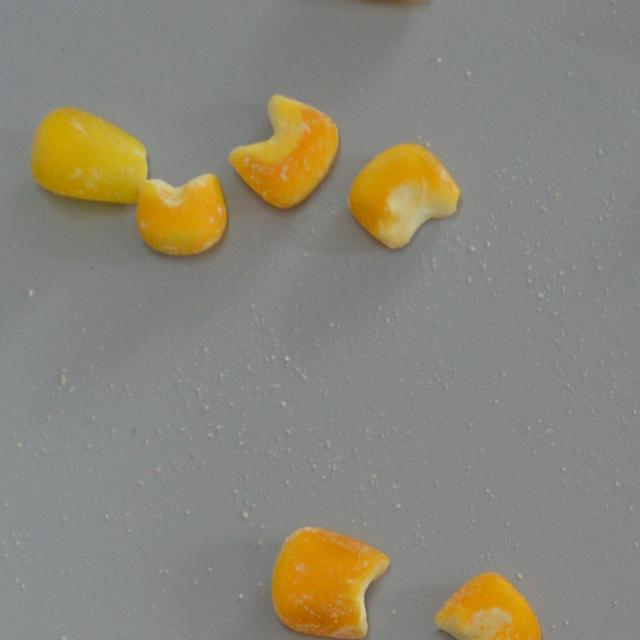no_canjicado: (32, 106, 149, 207)
pelicula: (270, 514, 390, 639), (228, 92, 340, 209), (347, 140, 458, 250), (135, 172, 227, 256), (436, 572, 541, 640)
